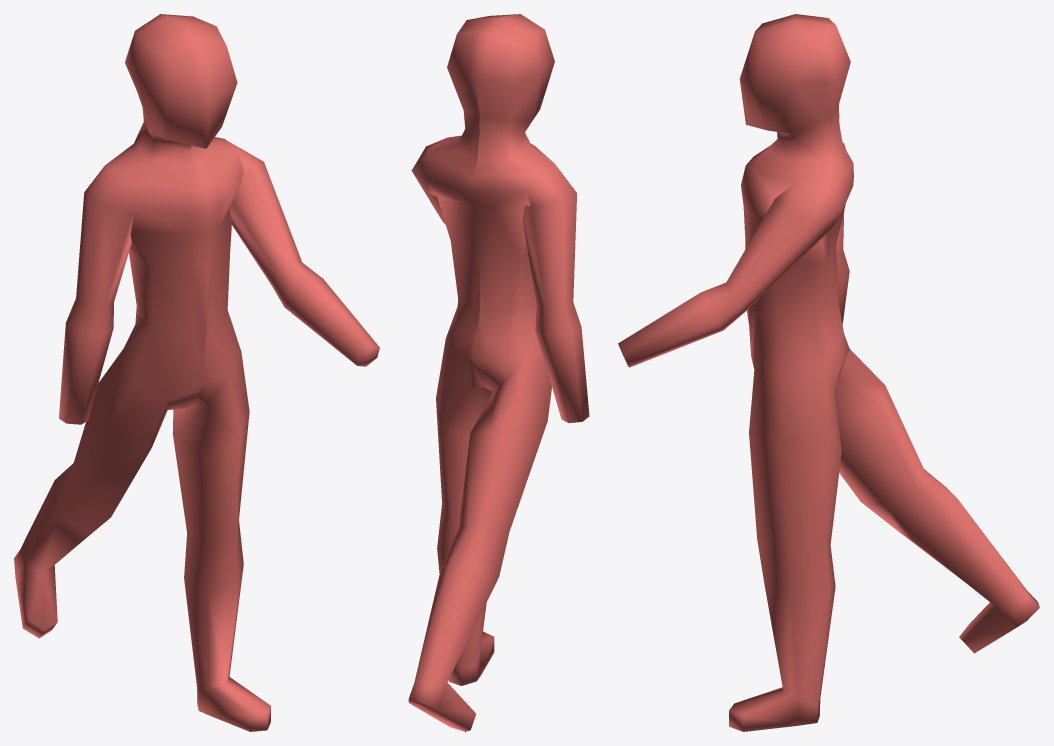
Rendered from idle_01.obj.
3 views of the same model, side by side, from view 1: azimuth 30°, elevation 25°; view 2: azimuth 150°, elevation 25°; view 3: azimuth 270°, elevation 25° (orthographic). The views are drawn at different scales.
Visible parts, largest first — view 1: Cube.001; view 2: Cube.001; view 3: Cube.001.
Part boxes in pixels (left/top/right/bottom): Cube.001: left=14, top=14, right=379, bottom=731; Cube.001: left=408, top=14, right=589, bottom=731; Cube.001: left=618, top=14, right=1039, bottom=731.
Size of the model in its own units: 1.97 by 6.09 by 3.42.
